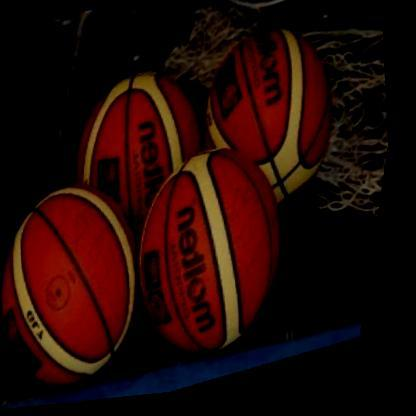basketball: (115, 129, 326, 382), (174, 7, 370, 238), (0, 163, 178, 414), (49, 54, 232, 266)
